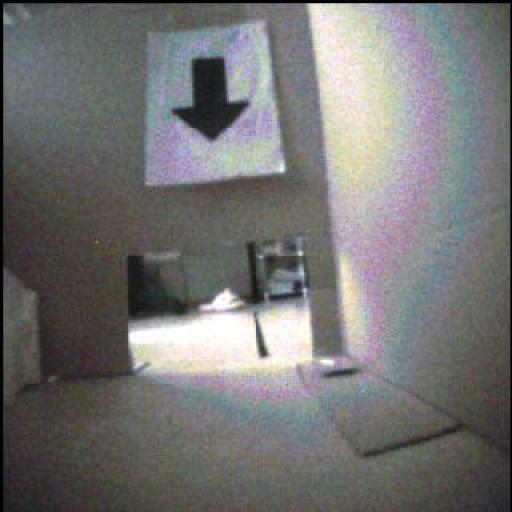arrow: (174, 59, 251, 142)
